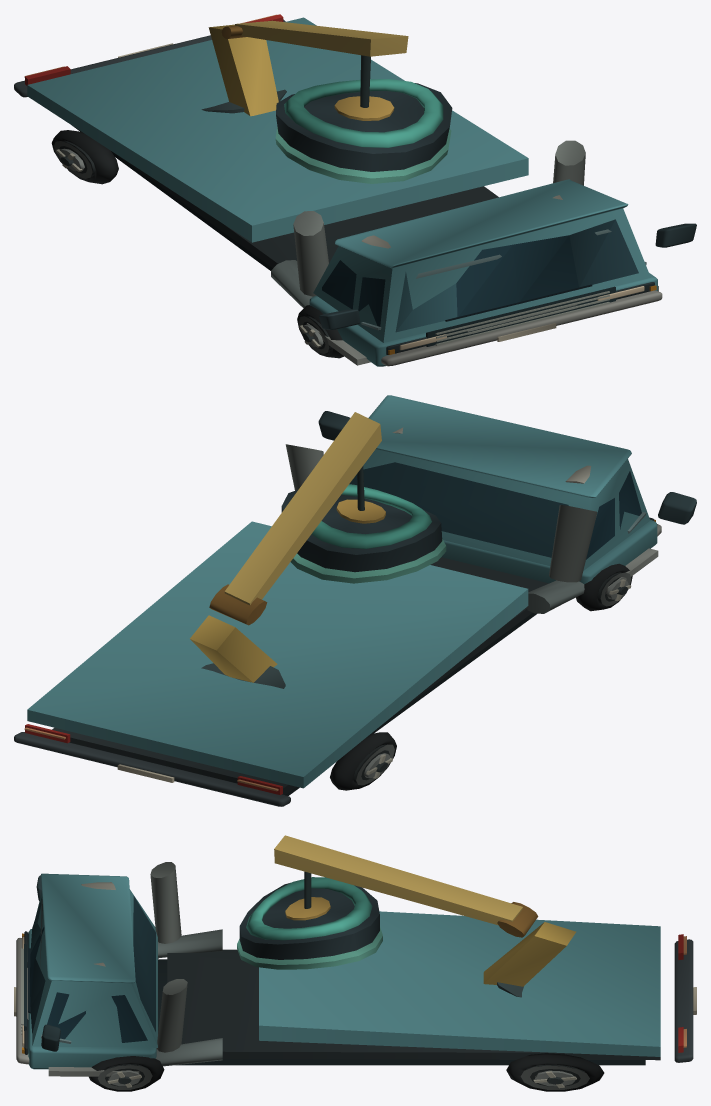
The model's file is magnet.glb.
3 views of the same model, one above another, from view 1: azimuth 30°, elevation 25°; view 2: azimuth 150°, elevation 25°; view 3: azimuth 270°, elevation 25° (orthographic). The views are drawn at different scales.
Parts seen in each view (by area): view 1: magnet_body; view 2: magnet_body; view 3: magnet_body.
Boxes of the visible parts, x1,y1,x2,y2 form: magnet_body: (14,14,696,366); magnet_body: (14,395,696,806); magnet_body: (14,835,696,1091).
Bounding box in the file's own units: 3.08 × 1.69 × 5.45.
